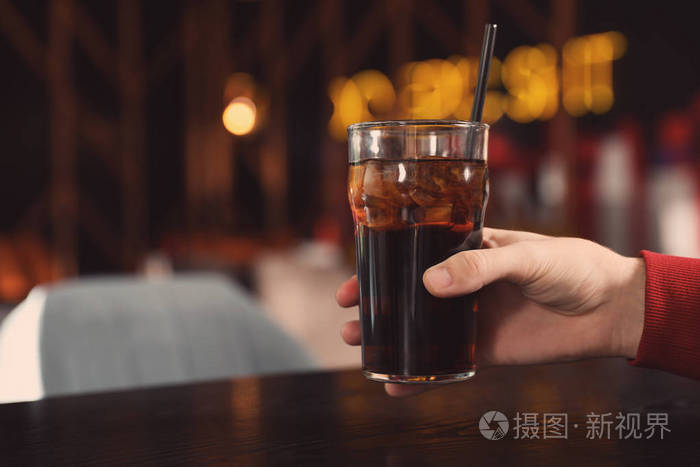no-phone: (329, 17, 641, 402)
